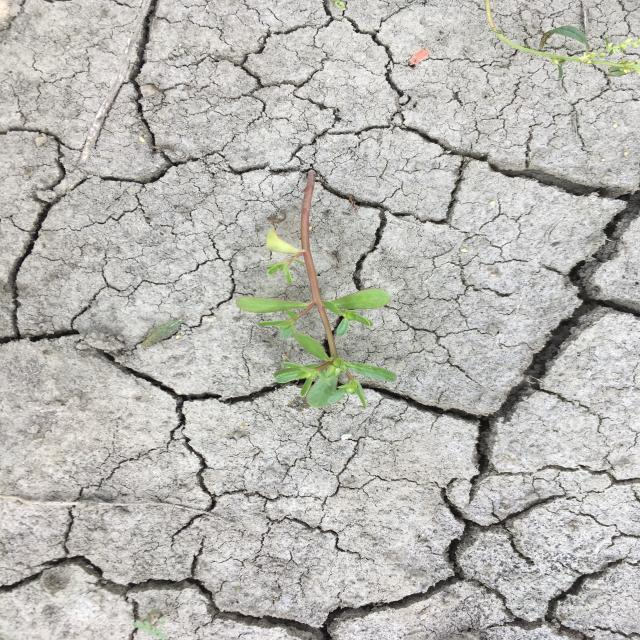Purslane: (234, 168, 400, 411)
